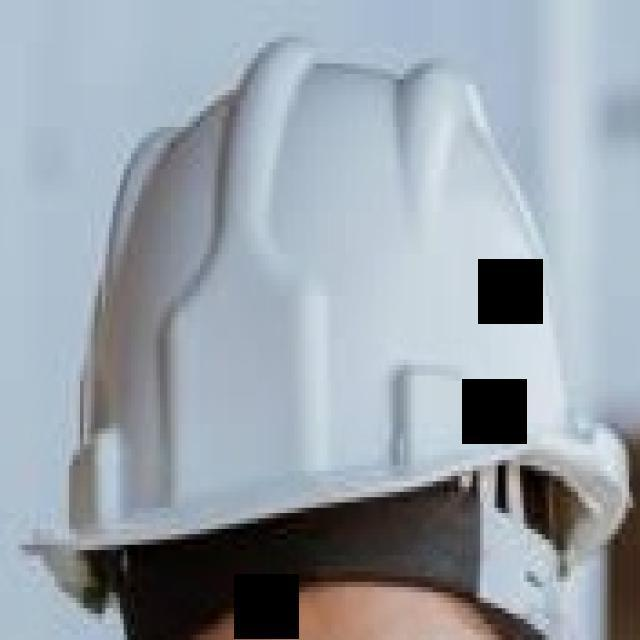helmet: (31, 19, 635, 617)
